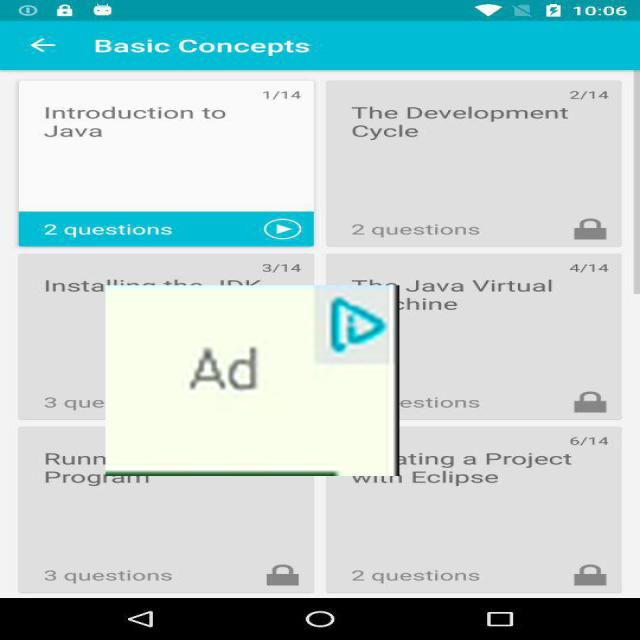sneaking: (106, 285, 400, 476)
